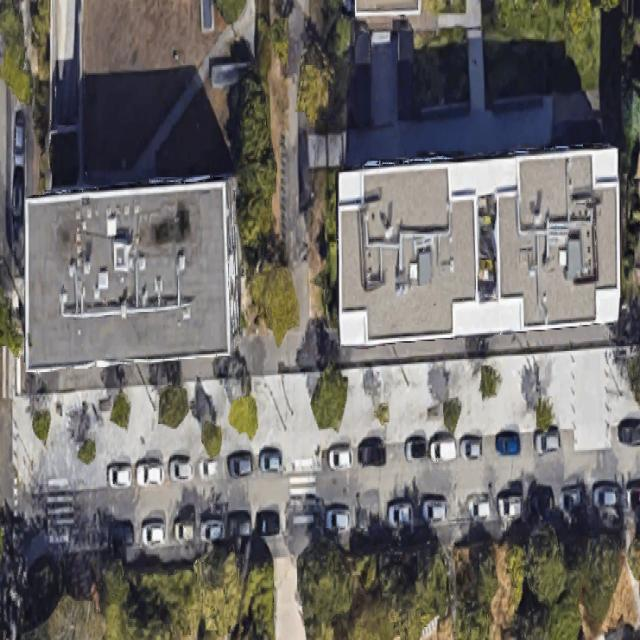immeuble: (326, 142, 631, 348), (11, 178, 247, 371)
